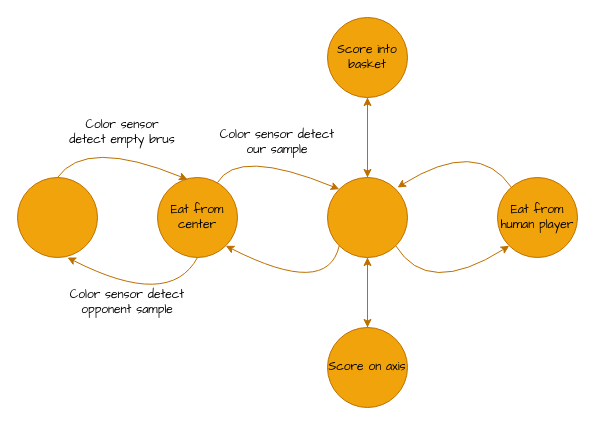
Some shapes in this 595 by 425 pixel diagram are drawn without their labels. The shapes that lost their labels are listed below. From the top down, each one's box as (x1, y1, x2, y2) in pixels, then its label:
(16, 176, 98, 258): Clearing brush
(326, 176, 408, 258): Move
